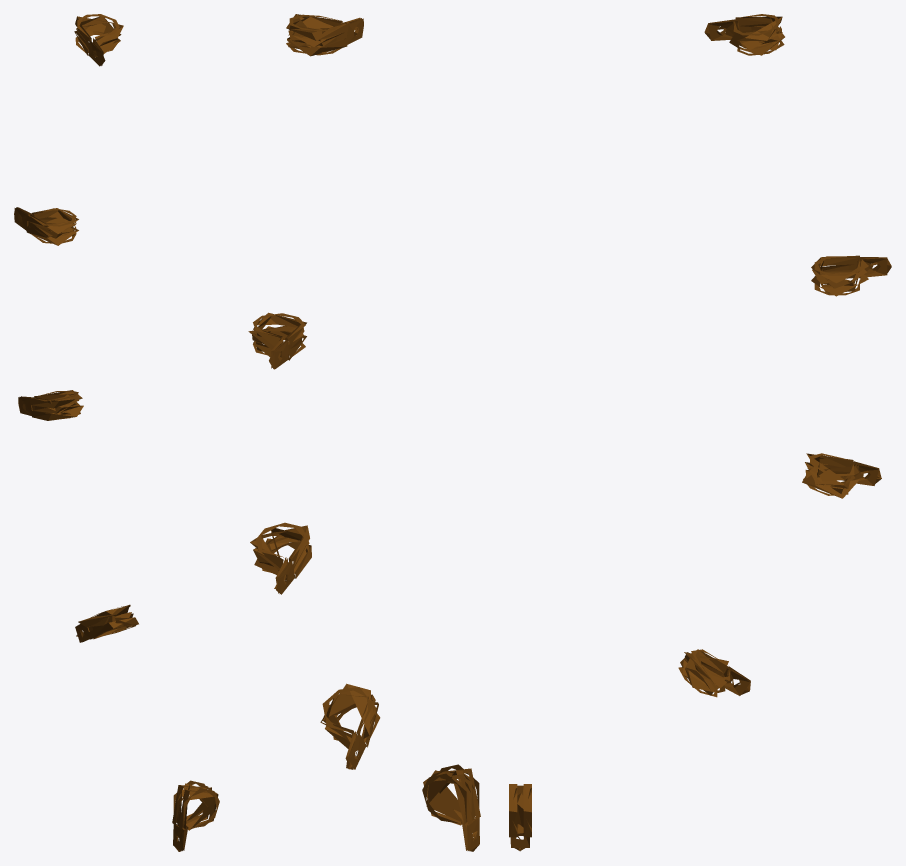
The model's file is front_right_steer_115.dae.
3 renders of one model, left to right at view 1: azimuth 30°, elevation 25°; view 2: azimuth 150°, elevation 25°; view 3: azimuth 270°, elevation 25°, orthographic. The views are drawn at different scales.
Parts seen in each view (by area): view 1: node; view 2: node; view 3: node.
Part boxes in pixels (x1,y1,x2,y2): node: (14, 14, 219, 851); node: (248, 14, 480, 851); node: (509, 14, 891, 851).
Bounding box in the file's own units: 0.0218 × 0.1208 × 0.2936.
